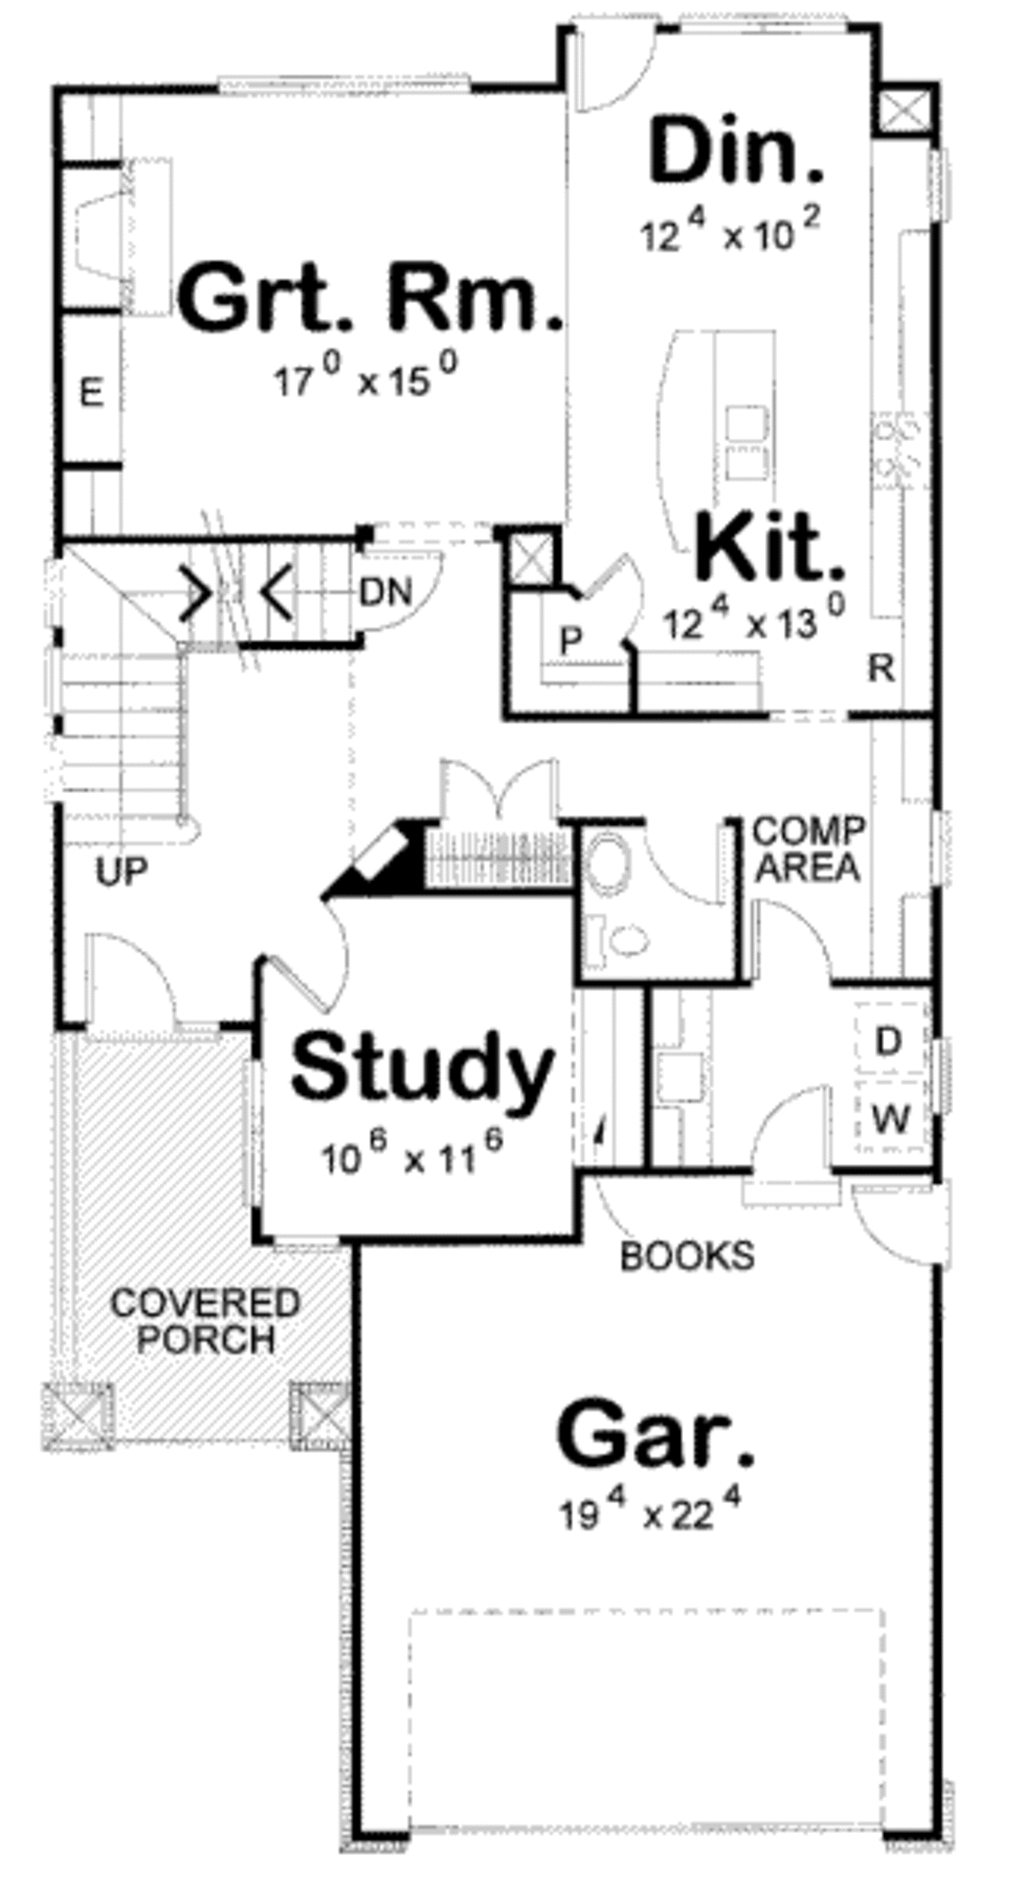door: (73, 920, 206, 1047), (550, 1, 673, 132), (744, 1082, 849, 1205), (243, 912, 358, 1023), (738, 888, 835, 994), (429, 750, 567, 820), (847, 1179, 961, 1261), (641, 820, 747, 900), (579, 550, 655, 632)
kitchen_bar: (649, 298, 788, 572)
large_sink: (576, 900, 658, 994)
small_sink: (579, 828, 641, 907)
stairs: (67, 554, 347, 841)
twin_sink: (702, 382, 776, 488)
window: (206, 59, 479, 108), (905, 1026, 963, 1117), (911, 144, 955, 223), (929, 799, 955, 885)
